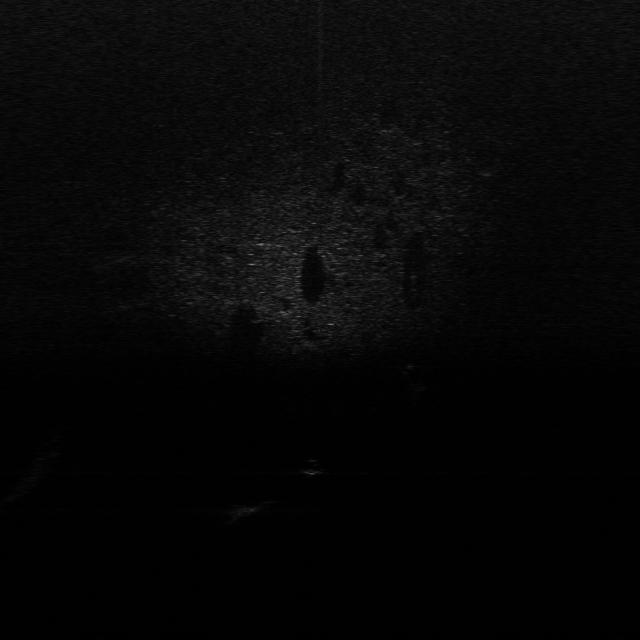ball: (297, 457, 329, 478)
square cage: (227, 495, 281, 519)
tyre: (400, 360, 430, 394)
